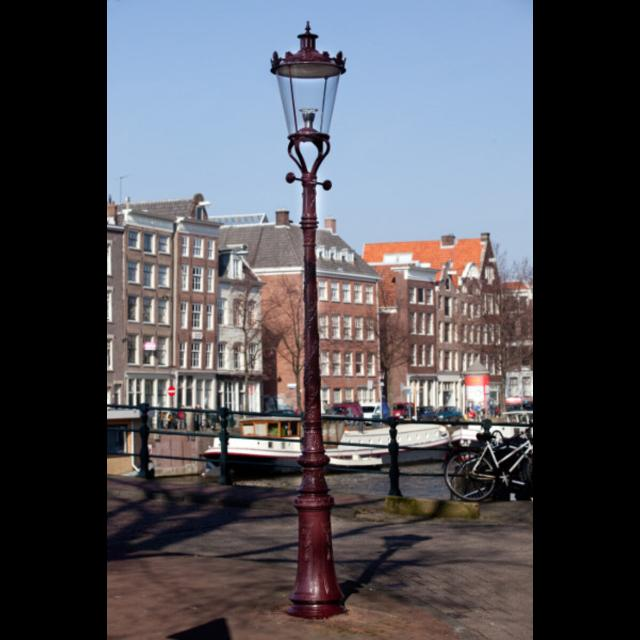Street-Lamp: (254, 20, 356, 620)
